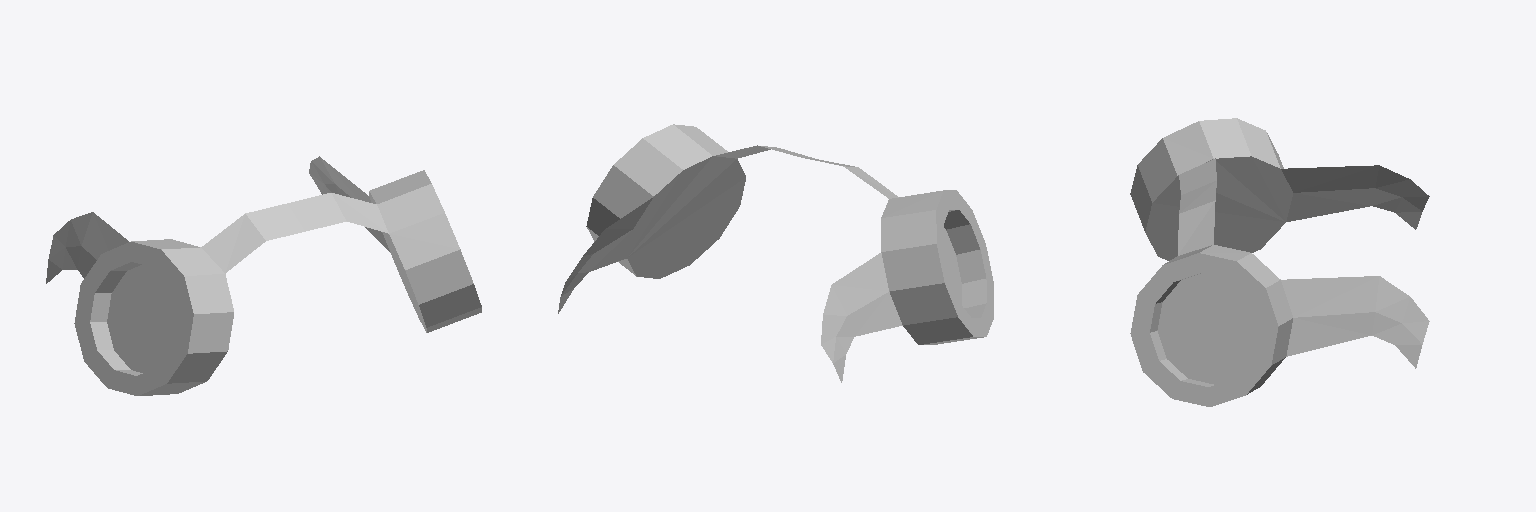
The model's file is engineering_goggles.obj.
The picture shows the model from 3 angles: view 1: azimuth 30°, elevation 25°; view 2: azimuth 150°, elevation 25°; view 3: azimuth 270°, elevation 25°; orthographic projection.
Visible parts, largest first — view 1: Cylinder.009, Cylinder.013, Cylinder.010; view 2: Cylinder.009, Cylinder.013, Cylinder.010; view 3: Cylinder.009, Cylinder.013, Cylinder.010.
Part boxes in pixels (x1,y1,x2,y2): Cylinder.009: (74,170,481,395); Cylinder.013: (46,156,389,283); Cylinder.010: (107,265,177,372); Cylinder.009: (586,124,993,344); Cylinder.013: (558,145,902,382); Cylinder.010: (944,228,961,304); Cylinder.009: (1130,118,1292,406); Cylinder.013: (1178,158,1429,368); Cylinder.010: (1157,273,1258,384).
Bounding box in the file's own units: 1.22 × 0.4721 × 0.8367.